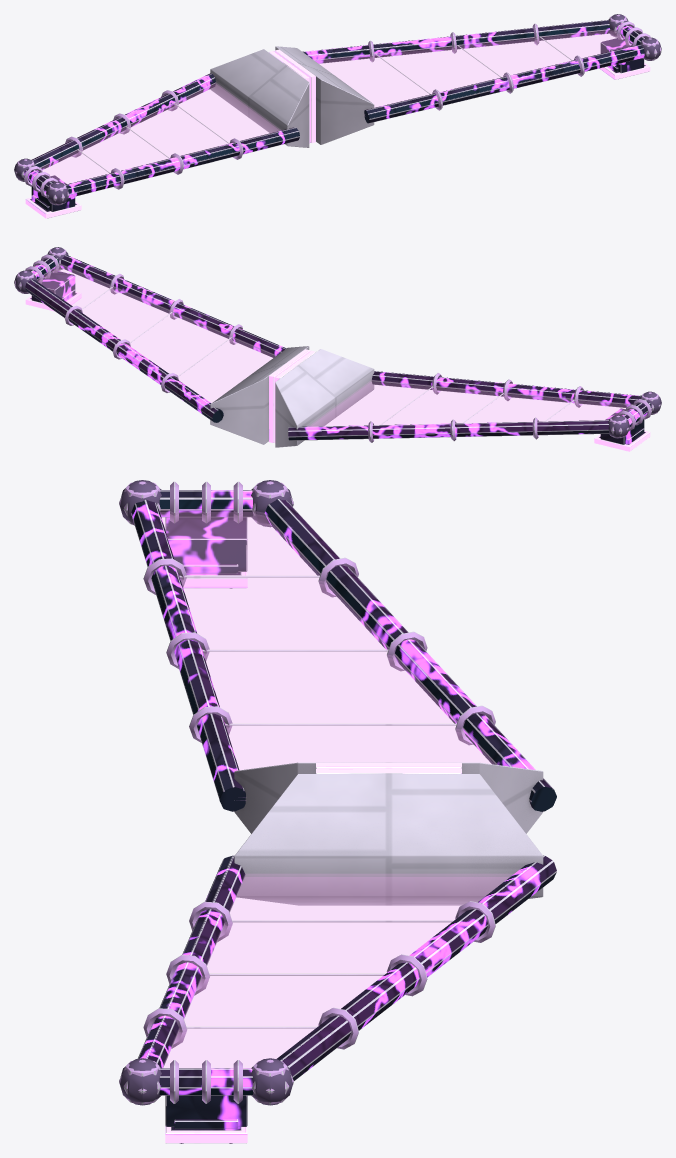
The model's file is ala_energia_t5.fbx.
The picture shows the model from 3 angles, top to bottom: view 1: azimuth 30°, elevation 25°; view 2: azimuth 150°, elevation 25°; view 3: azimuth 270°, elevation 25°; orthographic projection. The views are drawn at different scales.
Visible parts, largest first — view 1: ala_energia_t5_der, ala_energia_t5_izq, ala_energia_t5_der_domo, ala_energia_t5_izq_domo, ala_energia_t5_izq_neon, ala_energia_t5_der_neon; view 2: ala_energia_t5_izq, ala_energia_t5_der, ala_energia_t5_der_domo, ala_energia_t5_izq_domo, ala_energia_t5_izq_neon, ala_energia_t5_der_neon; view 3: ala_energia_t5_der, ala_energia_t5_izq_domo, ala_energia_t5_der_domo, ala_energia_t5_izq, ala_energia_t5_der_neon, ala_energia_t5_izq_neon.
Part boxes in pixels (x1,y1,x2,y2): ala_energia_t5_der: (274,14,661,144); ala_energia_t5_izq: (14,49,309,218); ala_energia_t5_der_domo: (315,30,632,107); ala_energia_t5_izq_domo: (41,83,280,184); ala_energia_t5_izq_neon: (15,90,243,204); ala_energia_t5_der_neon: (368,15,661,110); ala_energia_t5_izq: (274,349,661,451); ala_energia_t5_der: (14,247,309,444); ala_energia_t5_der_domo: (37,264,276,402); ala_energia_t5_izq_domo: (310,380,632,426); ala_energia_t5_izq_neon: (368,373,660,442); ala_energia_t5_der_neon: (14,248,242,392); ala_energia_t5_der: (119,768,556,1143); ala_energia_t5_izq_domo: (160,509,496,800); ala_energia_t5_der_domo: (162,874,512,1067); ala_energia_t5_izq: (119,480,556,833); ala_energia_t5_der_neon: (119,901,495,1104); ala_energia_t5_izq_neon: (119,481,495,745).
Bounding box in the file's own units: 15.52 × 1.6 × 4.8.
